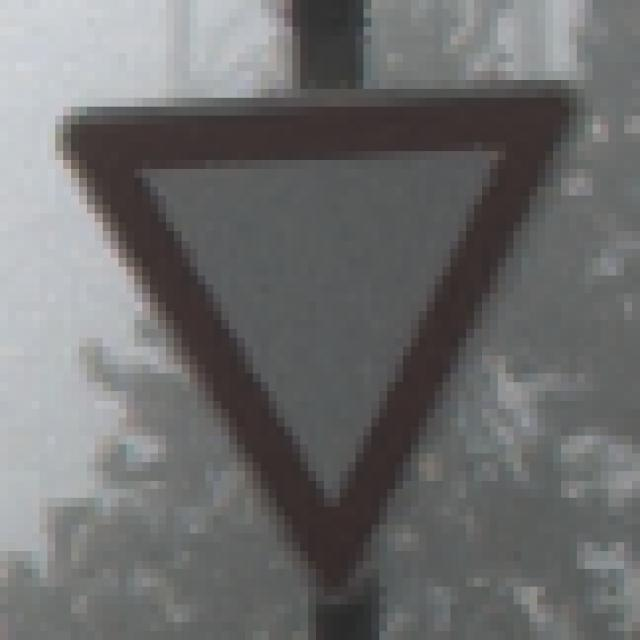Give Way: (56, 63, 586, 588)
